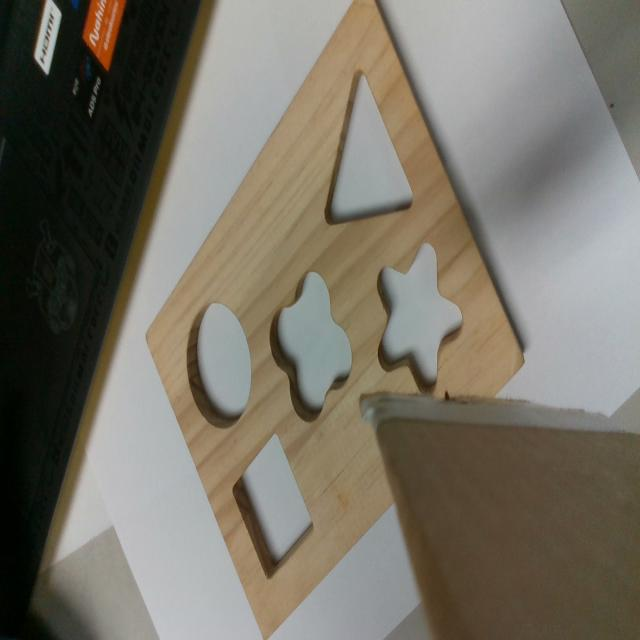circle: (191, 302, 250, 430)
flower: (272, 271, 352, 423)
square: (229, 434, 315, 579)
star: (378, 244, 464, 394)
triangle: (326, 67, 415, 224)
